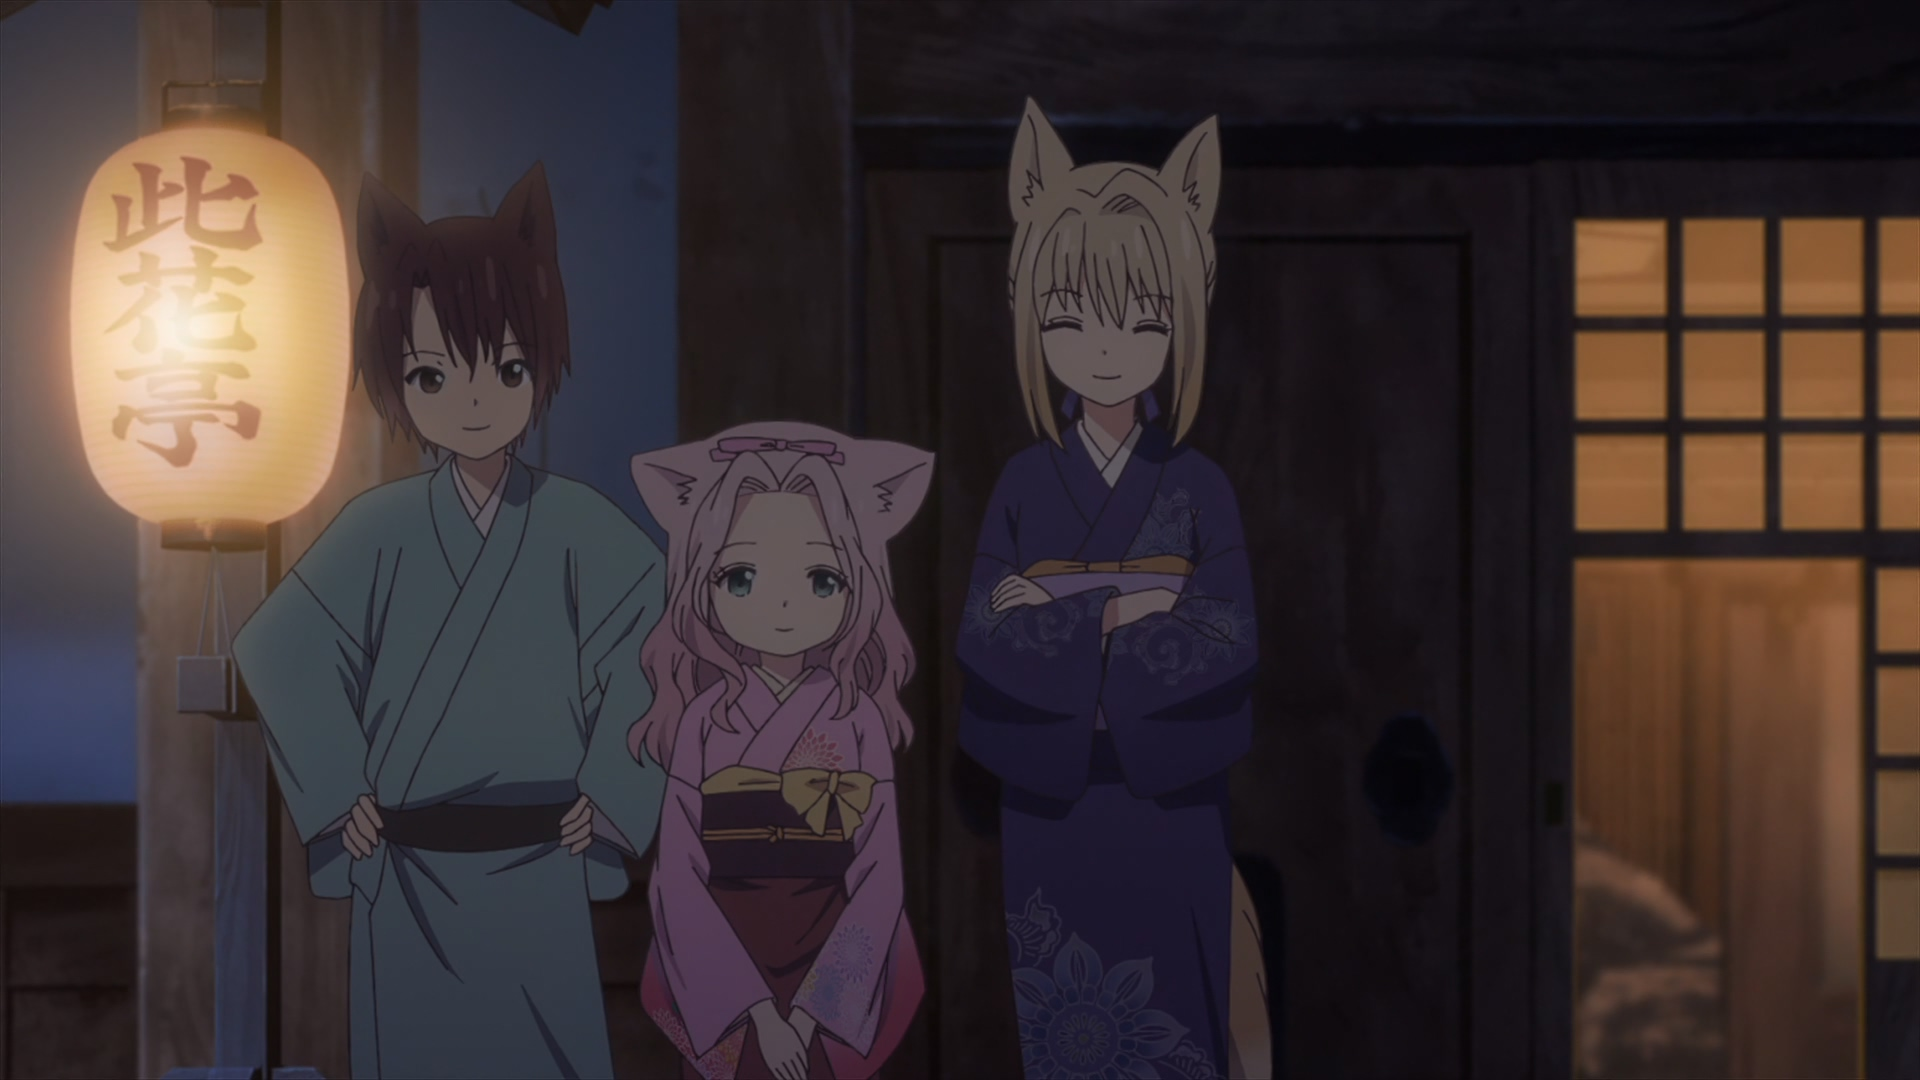枣: (229, 160, 669, 1080)
桐: (949, 102, 1273, 1080)
莲: (634, 419, 936, 1080)
